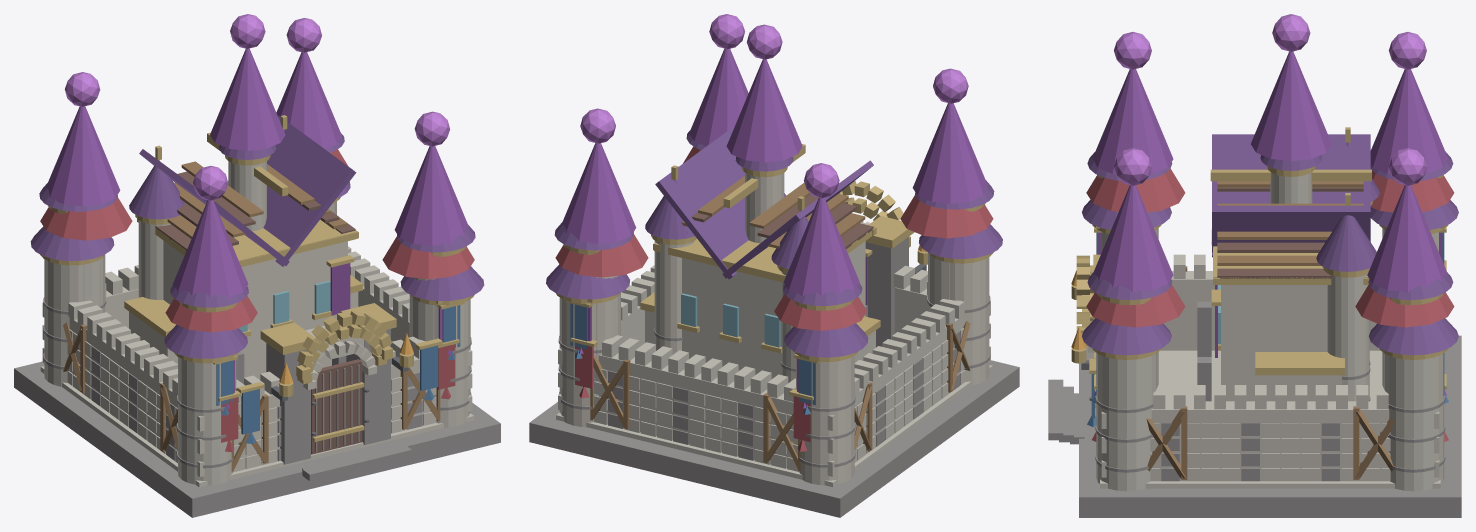
Rendered from Royal_Castle_v095.glb.
3 views of the same model, side by side, from view 1: azimuth 30°, elevation 25°; view 2: azimuth 150°, elevation 25°; view 3: azimuth 270°, elevation 25° (orthographic). The views are drawn at different scales.
Parts seen in each view (by area): view 1: foundation, central_keep, keep_roof_1, outer_-2.45_2.4_stone, tier25_amethyst_roof_0_-0.35, tier25_amethyst_roof_-2.3_-2.3, tier25_amethyst_roof_2.3_2.3, tier25_amethyst_roof_-2.3_2.3, outer_-2.45_-2.4_stone, tier25_amethyst_roof_2.3_-2.3, oak_gate, gate_pillar_-0.83 (+42 smaller); view 2: foundation, central_keep, keep_roof_1, outer_-2.45_-2.4_stone, tier25_amethyst_roof_0_-0.35, wall_z-2.55, tier25_amethyst_roof_-2.3_2.3, tier25_amethyst_roof_2.3_-2.3, tier25_amethyst_roof_-2.3_-2.3, outer_-2.45_2.4_stone, tier25_amethyst_roof_2.3_2.3, courtyard (+34 smaller); view 3: foundation, central_keep, outer_2.45_2.4_stone, outer_2.45_-2.4_stone, wall_x2.58, tier25_amethyst_roof_0_-0.35, keep_roof_-1, tier25_amethyst_roof_2.3_-2.3, tier25_amethyst_roof_2.3_2.3, courtyard, keep_roof_1, tier25_amethyst_roof_-2.3_2.3 (+36 smaller).
Part boxes in pixels (x1,y1,x2,y2): foundation: [14, 361, 500, 517]; central_keep: [163, 240, 347, 379]; keep_roof_1: [228, 116, 356, 266]; outer_-2.45_2.4_stone: [178, 357, 232, 485]; tier25_amethyst_roof_0_-0.35: [210, 48, 285, 150]; tier25_amethyst_roof_-2.3_-2.3: [45, 106, 120, 206]; tier25_amethyst_roof_2.3_2.3: [394, 146, 469, 245]; tier25_amethyst_roof_-2.3_2.3: [173, 200, 248, 297]; outer_-2.45_-2.4_stone: [44, 259, 83, 386]; tier25_amethyst_roof_2.3_-2.3: [276, 52, 341, 149]; oak_gate: [311, 359, 362, 454]; gate_pillar_-0.83: [266, 343, 310, 464]; foundation: [529, 360, 1019, 517]; central_keep: [682, 241, 865, 378]; keep_roof_1: [655, 127, 786, 279]; outer_-2.45_-2.4_stone: [799, 355, 854, 485]; tier25_amethyst_roof_0_-0.35: [726, 59, 802, 162]; wall_z-2.55: [598, 353, 797, 467]; tier25_amethyst_roof_-2.3_2.3: [912, 103, 987, 203]; tier25_amethyst_roof_2.3_-2.3: [561, 143, 636, 243]; tier25_amethyst_roof_-2.3_-2.3: [783, 197, 859, 296]; outer_-2.45_2.4_stone: [949, 257, 989, 385]; tier25_amethyst_roof_2.3_2.3: [689, 48, 748, 146]; courtyard: [556, 365, 992, 487]; foundation: [1079, 335, 1461, 517]; central_keep: [1221, 285, 1327, 401]; outer_2.45_2.4_stone: [1096, 353, 1156, 491]; outer_2.45_-2.4_stone: [1384, 353, 1444, 491]; wall_x2.58: [1151, 401, 1389, 481]; tier25_amethyst_roof_0_-0.35: [1251, 51, 1331, 161]; keep_roof_-1: [1212, 134, 1370, 257]; tier25_amethyst_roof_2.3_-2.3: [1367, 185, 1448, 292]; tier25_amethyst_roof_2.3_2.3: [1092, 185, 1173, 292]; courtyard: [1100, 350, 1440, 488]; keep_roof_1: [1212, 205, 1370, 252]; tier25_amethyst_roof_-2.3_2.3: [1092, 69, 1173, 174].
Size of the model in its own units: 6.41 by 7.78 by 6.91.
